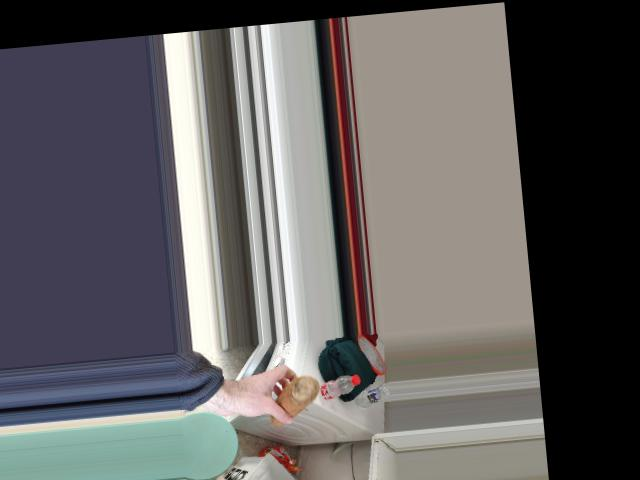sweet_potato: (268, 378, 322, 428)
